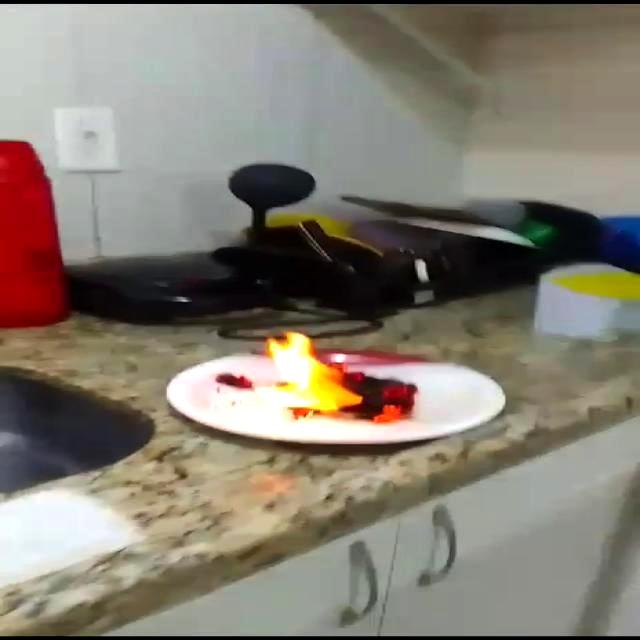fire: (262, 332, 422, 424)
